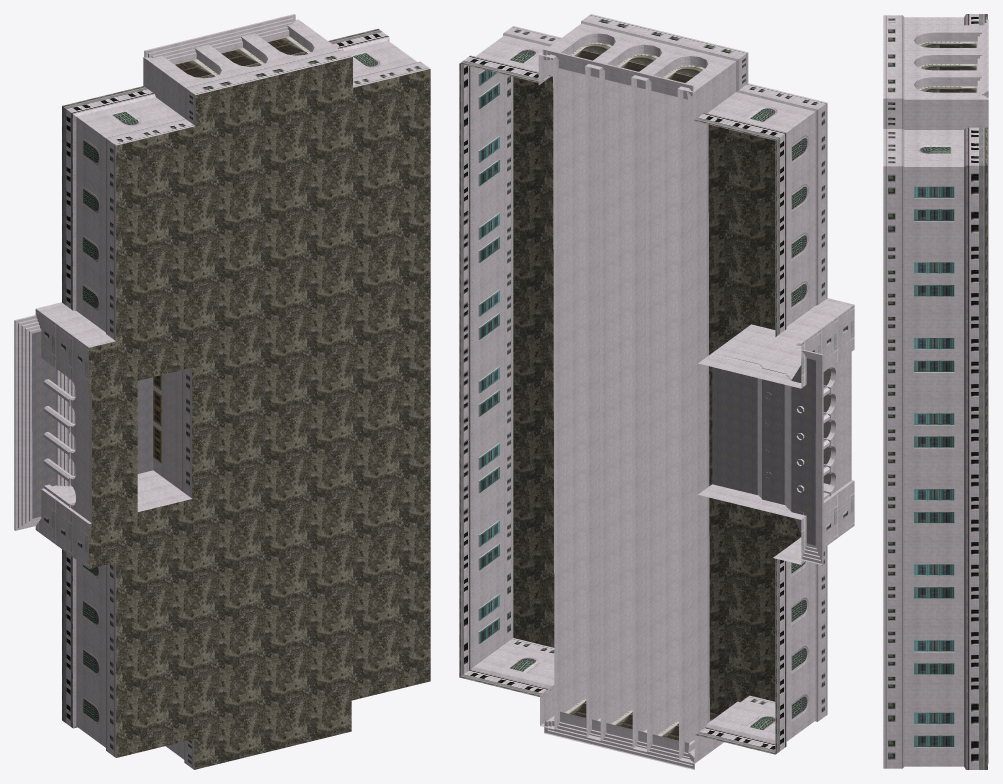
The model's file is varoshaza_new.obj.
The picture shows the model from 3 angles, left to right: view 1: azimuth 30°, elevation 25°; view 2: azimuth 150°, elevation 25°; view 3: azimuth 270°, elevation 25°; orthographic projection.
Parts seen in each view (by area): view 1: LAcityhall1_LAn.001_LAcityhall1_LAn.003; view 2: LAcityhall1_LAn.001_LAcityhall1_LAn.003; view 3: LAcityhall1_LAn.001_LAcityhall1_LAn.003.
Boxes of the visible parts, left/top/right/bottom form: LAcityhall1_LAn.001_LAcityhall1_LAn.003: left=14, top=14, right=430, bottom=769; LAcityhall1_LAn.001_LAcityhall1_LAn.003: left=459, top=14, right=854, bottom=769; LAcityhall1_LAn.001_LAcityhall1_LAn.003: left=883, top=14, right=988, bottom=769.
Size of the model in its own units: 78.83 by 142 by 20.09.
Materials: 11 (11 with a texture image).
